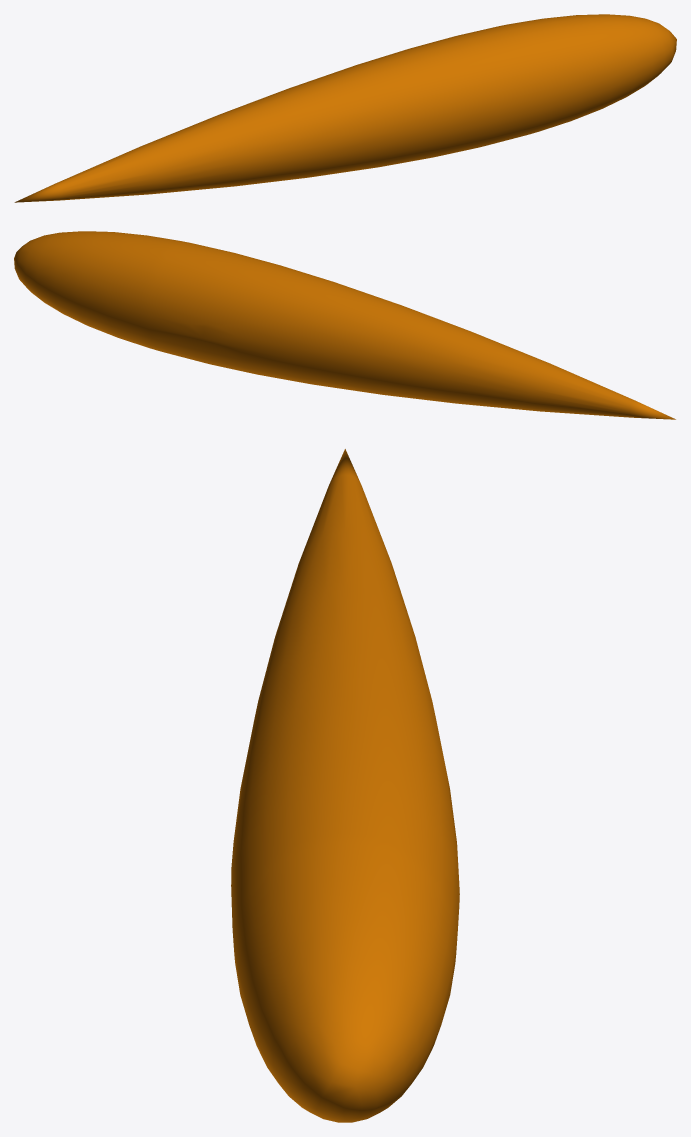
The model's file is ballast_colored.obj.
3 views of the same model, one above another, from view 1: azimuth 30°, elevation 25°; view 2: azimuth 150°, elevation 25°; view 3: azimuth 270°, elevation 25° (orthographic). The views are drawn at different scales.
Parts seen in each view (by area): view 1: ballast_convex_hull; view 2: ballast_convex_hull; view 3: ballast_convex_hull.
Boxes of the visible parts, x1,y1,x2,y2 form: ballast_convex_hull: (14, 14, 676, 202); ballast_convex_hull: (14, 231, 675, 419); ballast_convex_hull: (231, 449, 459, 1122).
Size of the model in its own units: 0.3897 by 0.0583 by 0.0585.
